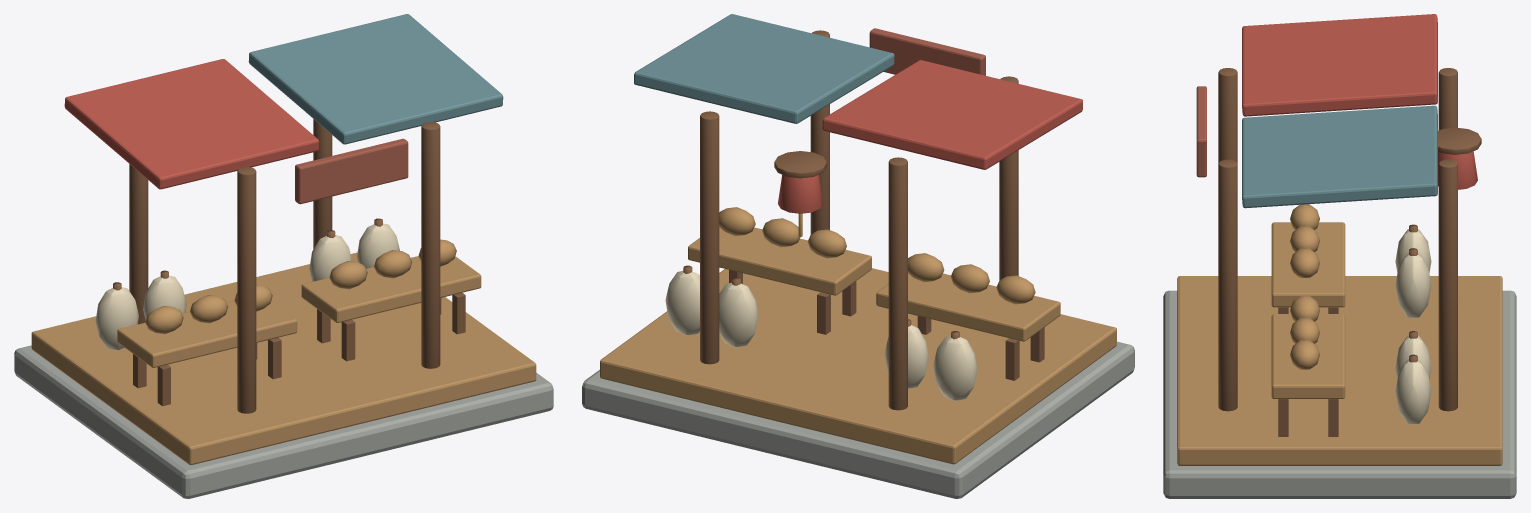
The model's file is building_market_open.glb.
3 views of the same model, side by side, from view 1: azimuth 30°, elevation 25°; view 2: azimuth 150°, elevation 25°; view 3: azimuth 270°, elevation 25° (orthographic). The views are drawn at different scales.
Visible parts, largest first — view 1: RaisedFloor.005, MarketCanopy, MarketCanopy.001, Foundation.005, WorkTableTop.003, WorkTableTop.004, MarketPost, MarketPost.002, MarketSign, MarketPost.001, GrainSack.004, MarketPost.003 (+8 smaller); view 2: RaisedFloor.005, Foundation.005, MarketCanopy, MarketCanopy.001, WorkTableTop.003, WorkTableTop.004, MarketPost.001, MarketPost.003, MarketSign, MarketPost, GrainSack.004, GrainSack.006 (+12 smaller); view 3: RaisedFloor.005, MarketCanopy.001, MarketCanopy, Foundation.005, MarketPost.002, MarketPost.003, WorkTableTop.004, WorkTableTop.003, MarketPost, GrainSack.007, GrainSack.005, MarketPost.001 (+13 smaller).
Part boxes in pixels (x1=…): RaisedFloor.005: x1=31, y1=252, x2=536, y2=465; MarketCanopy: x1=64, y1=59, x2=319, y2=189; MarketCanopy.001: x1=248, y1=14, x2=503, y2=144; Foundation.005: x1=14, y1=345, x2=553, y2=498; WorkTableTop.003: x1=117, y1=301, x2=297, y2=367; WorkTableTop.004: x1=301, y1=256, x2=481, y2=322; MarketPost: x1=237, y1=167, x2=256, y2=413; MarketPost.002: x1=421, y1=122, x2=440, y2=368; MarketSign: x1=295, y1=138, x2=408, y2=204; MarketPost.001: x1=129, y1=164, x2=148, y2=324; GrainSack.004: x1=95, y1=287, x2=138, y2=350; MarketPost.003: x1=313, y1=119, x2=332, y2=248; RaisedFloor.005: x1=600, y1=268, x2=1116, y2=464; Foundation.005: x1=582, y1=341, x2=1134, y2=498; MarketCanopy: x1=822, y1=60, x2=1082, y2=169; MarketCanopy.001: x1=634, y1=14, x2=894, y2=123; WorkTableTop.003: x1=876, y1=273, x2=1060, y2=341; WorkTableTop.004: x1=688, y1=227, x2=871, y2=295; MarketPost.001: x1=888, y1=157, x2=907, y2=410; MarketPost.003: x1=700, y1=111, x2=719, y2=364; MarketSign: x1=869, y1=28, x2=985, y2=75; MarketPost: x1=999, y1=76, x2=1018, y2=280; GrainSack.004: x1=933, y1=336, x2=977, y2=401; GrainSack.006: x1=719, y1=282, x2=758, y2=347; RaisedFloor.005: x1=1177, y1=276, x2=1502, y2=465; MarketCanopy.001: x1=1242, y1=105, x2=1437, y2=208; MarketCanopy: x1=1242, y1=14, x2=1437, y2=116; Foundation.005: x1=1163, y1=290, x2=1516, y2=498; MarketPost.002: x1=1218, y1=159, x2=1237, y2=411; MarketPost.003: x1=1438, y1=159, x2=1457, y2=411; WorkTableTop.004: x1=1271, y1=314, x2=1345, y2=398; WorkTableTop.003: x1=1271, y1=222, x2=1345, y2=307; MarketPost: x1=1218, y1=68, x2=1237, y2=163; GrainSack.007: x1=1395, y1=359, x2=1431, y2=424; GrainSack.005: x1=1395, y1=253, x2=1431, y2=318; MarketPost.001: x1=1438, y1=68, x2=1457, y2=130.
Bounding box in the file's own units: 2.5 × 1.96 × 2.02.
